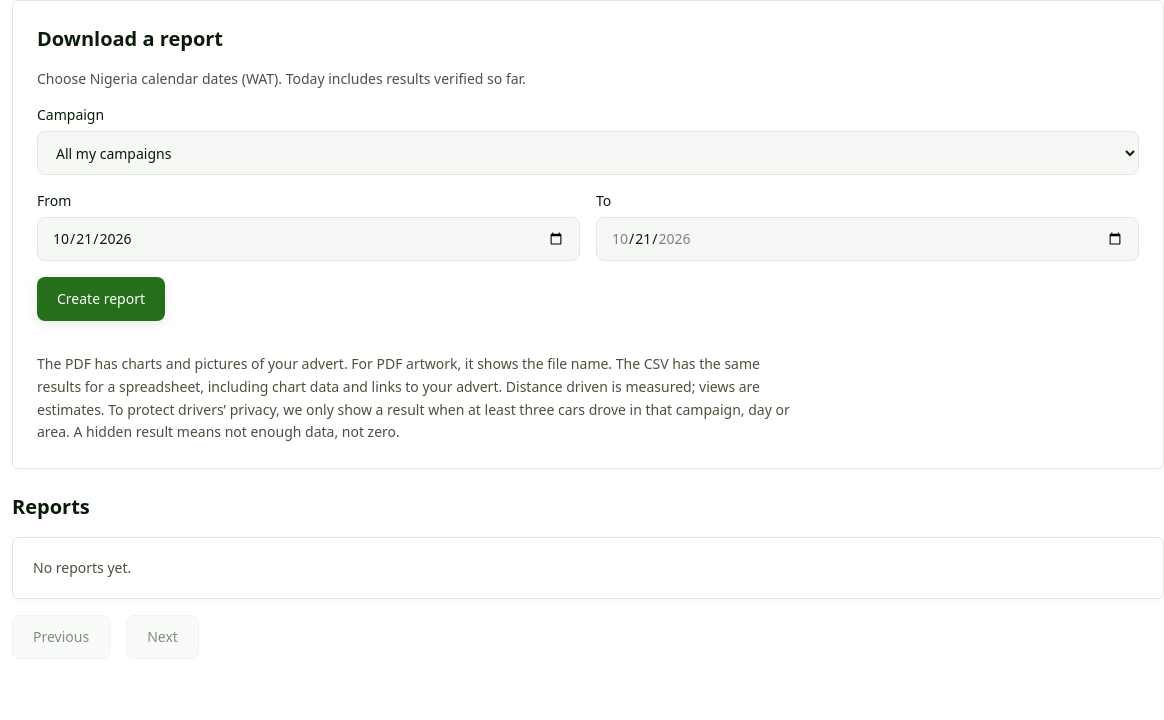
checks an uncertain response with the identical request instead of making a second report
This screenshot has width=1164, height=720.
Expected: the text "No reports yet." is shown, [12,537,1163,599]
Click the button "Create report" at (101,299), box [37,277,165,321]
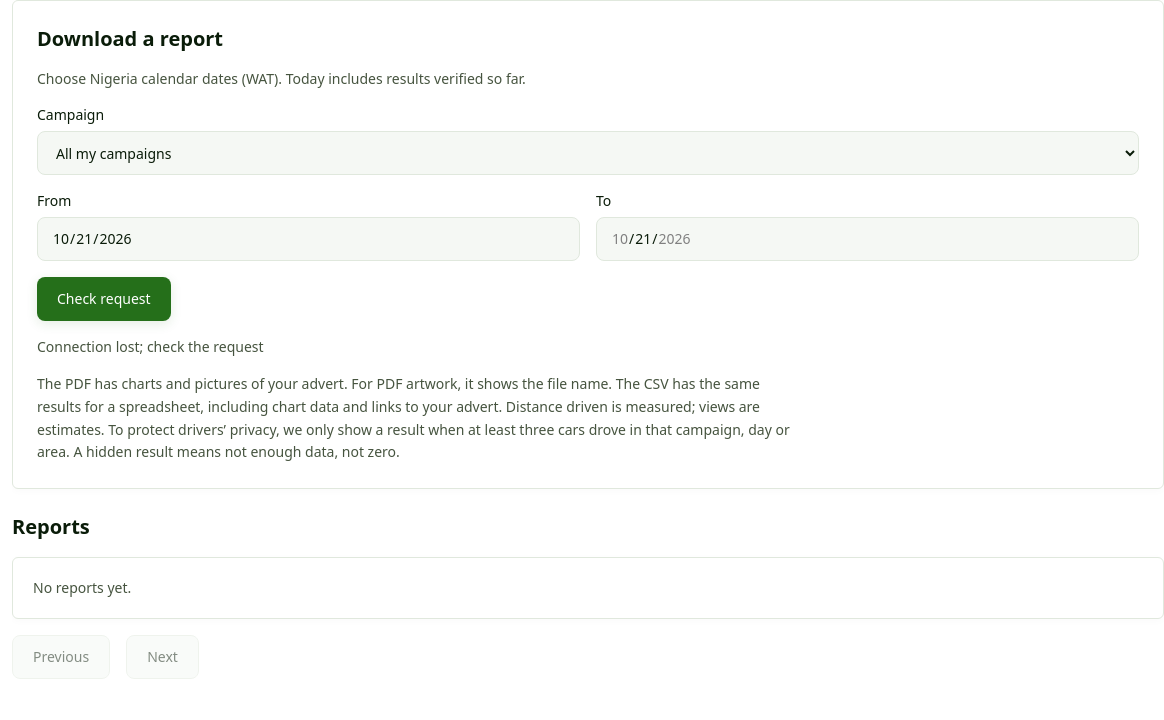
Now the button "Check request" is shown
Now the date field labelled "From" is disabled, box [37,217,580,261]
Click the button "Check request" at (104,299), box [37,277,171,321]
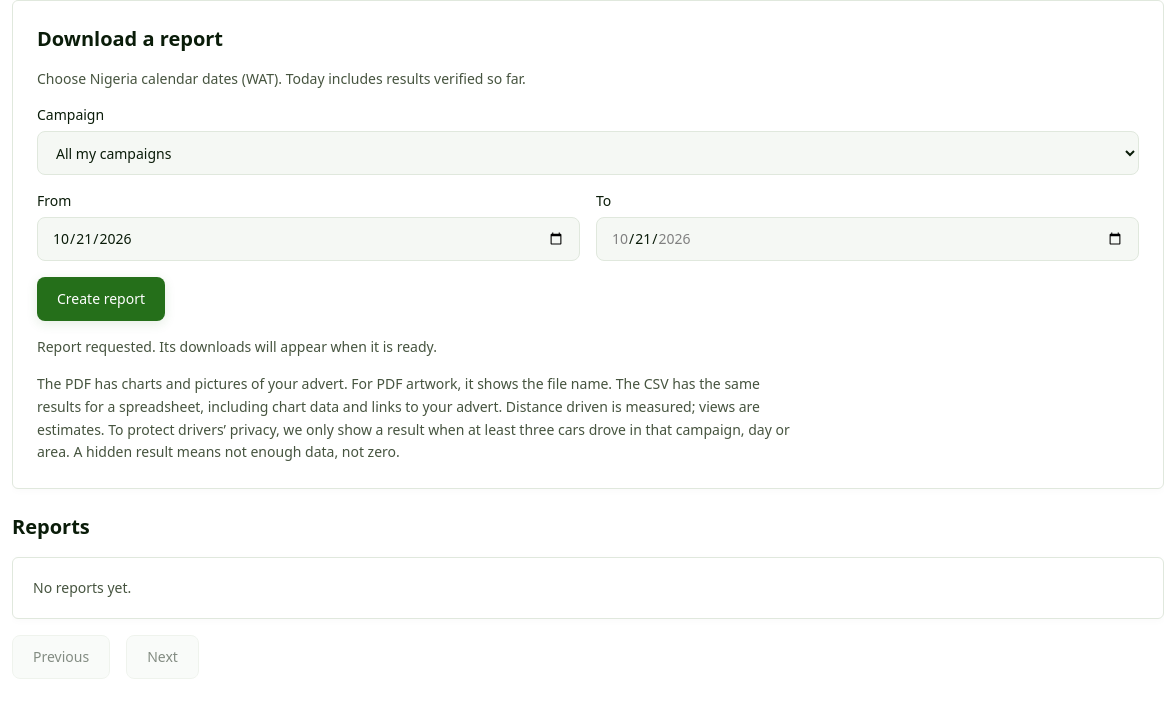
Now the text "Report requested. Its downloads will appear when it is ready." is shown, box [37,337,437,356]
